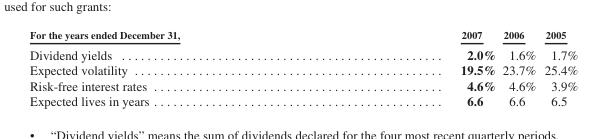table: (28, 28, 577, 108)
table column: (28, 28, 319, 108), (319, 28, 498, 108), (498, 28, 539, 108), (539, 28, 577, 108)
table column header: (28, 28, 577, 43)
table row: (28, 43, 577, 61), (28, 61, 577, 77), (28, 92, 577, 108), (28, 28, 577, 43), (28, 77, 577, 92)
